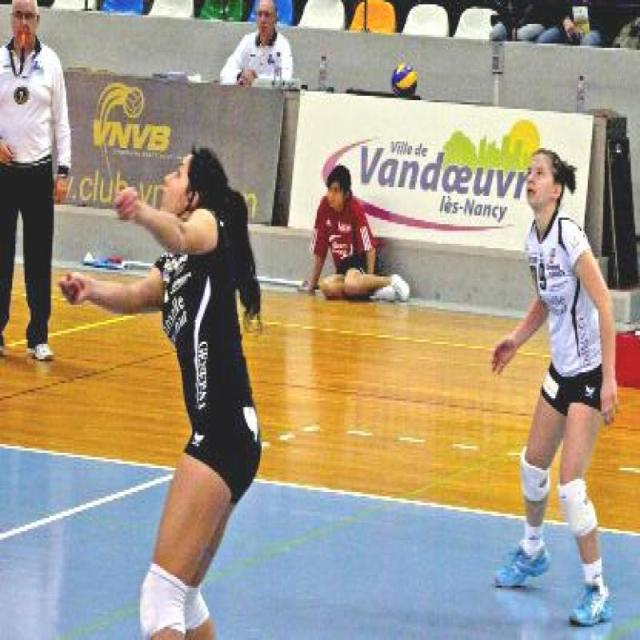volleyball: (390, 63, 416, 98)
